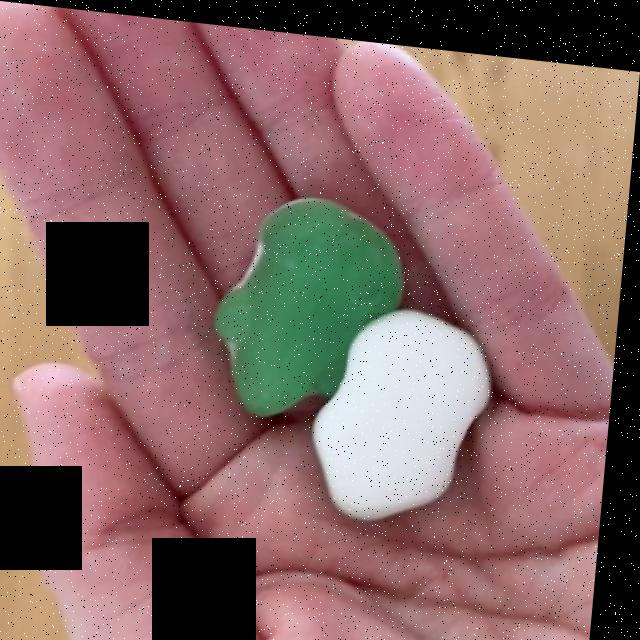gummi-bears-fruit-jellies-jelly-babies-with-fruit-essence: (223, 187, 510, 520)
